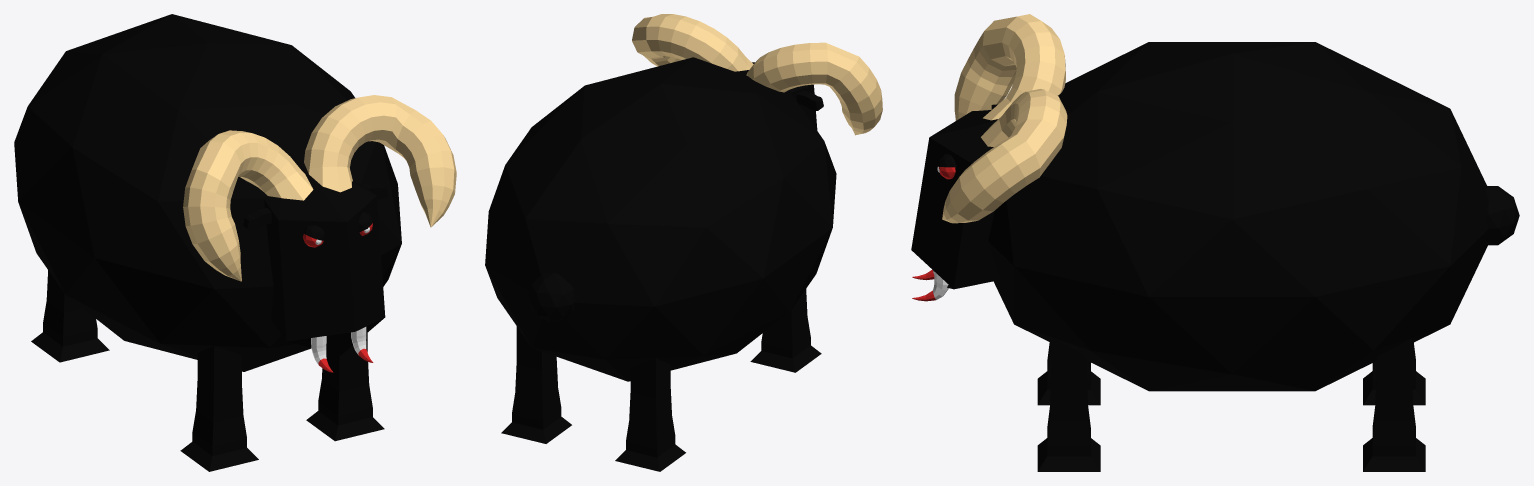
File: OvejaJefaEnemiga.fbx
The picture shows the model from 3 angles, left to right: view 1: azimuth 30°, elevation 25°; view 2: azimuth 150°, elevation 25°; view 3: azimuth 270°, elevation 25°; orthographic projection. The views are drawn at different scales.
Parts seen in each view (by area): view 1: Icosphere, Cylinder.006, Cube.001, Cube.003, Cube; view 2: Icosphere, Cylinder.006, Cube, Cube.002, Cube.001; view 3: Icosphere, Cylinder.006, Cube.003, Cube.002, Cube.001, Cube.
Part boxes in pixels (x1,y1,x2,y2): Icosphere: (14,14,401,371); Cylinder.006: (183,95,456,372); Cube.001: (180,346,258,471); Cube.003: (306,333,384,441); Cube: (31,270,109,362); Icosphere: (485,57,836,381); Cylinder.006: (632,14,882,135); Cube: (615,358,685,471); Cube.002: (501,326,571,443); Cube.001: (750,289,821,372); Icosphere: (988,42,1519,391); Cylinder.006: (911,14,1067,301); Cube.003: (1037,337,1100,471); Cube.002: (1363,338,1425,471); Cube.001: (1037,342,1100,405); Cube: (1363,342,1425,405).
Size of the model in its own units: 150 by 162 by 240.
